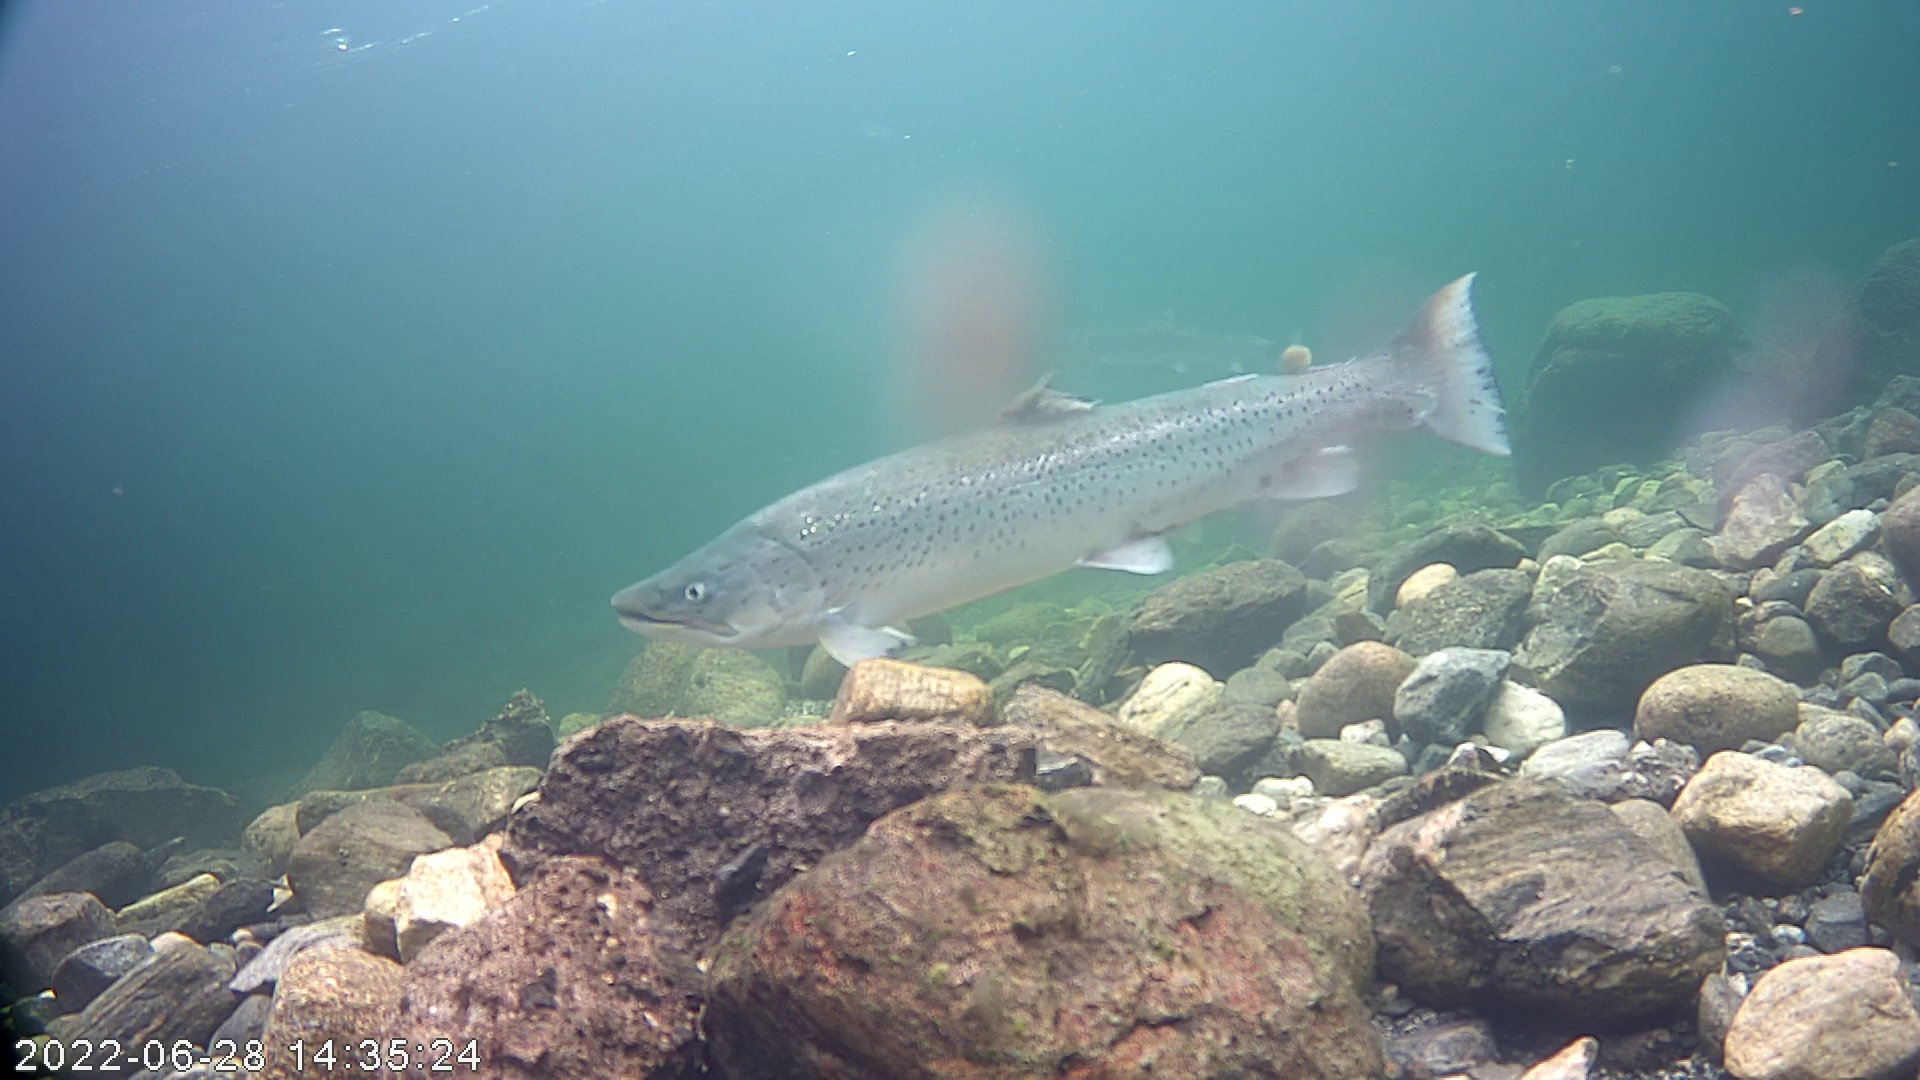salmon: (603, 239, 1544, 683)
